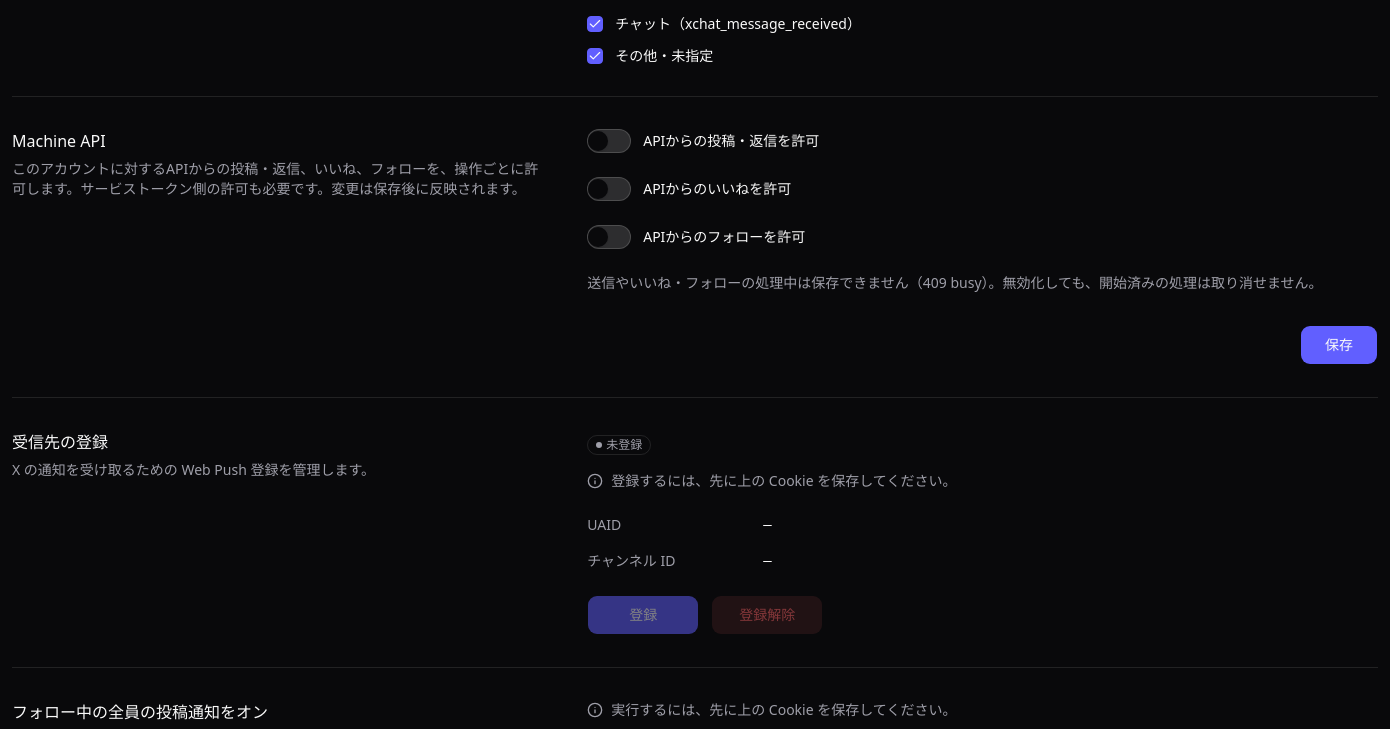
Scenario: Settings › requires both cookies on first setup
(page scrolled)
Click the button "保存": click(1339, 345) x1=1300 y1=325 x2=1378 y2=365
(page scrolled)
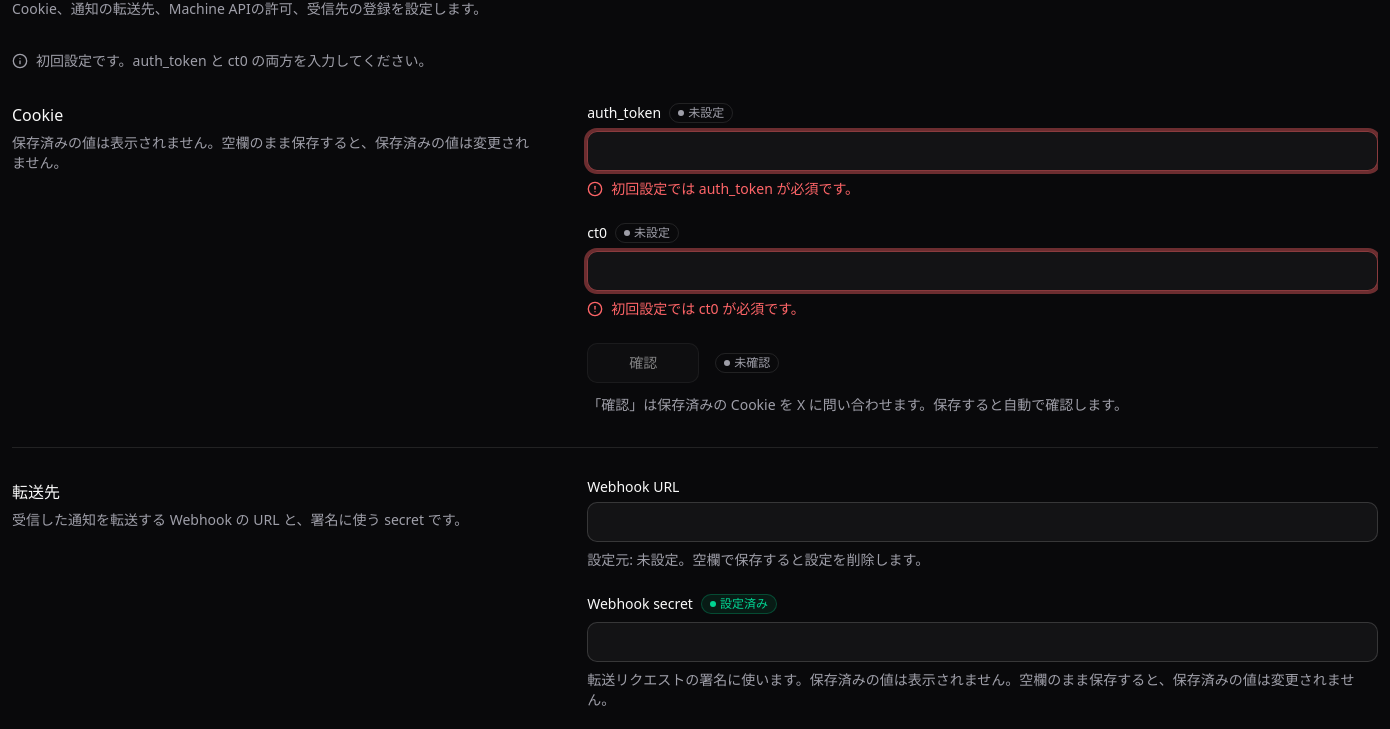
Expected: the text "初回設定では auth_token が必須です。" is shown, x1=611 y1=179 x2=859 y2=199
Expected: the text "初回設定では ct0 が必須です。" is shown, x1=611 y1=299 x2=805 y2=319
